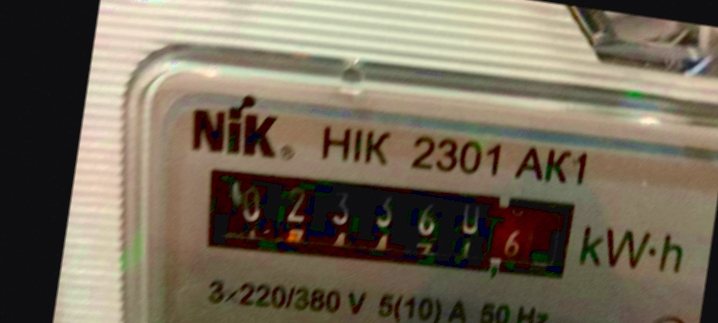0: (234, 180, 265, 225), (455, 197, 483, 237)
2: (279, 180, 310, 224)
3: (326, 185, 352, 228), (368, 189, 395, 230)
6: (409, 195, 440, 240), (498, 223, 524, 261)
screen: (175, 134, 589, 308)
